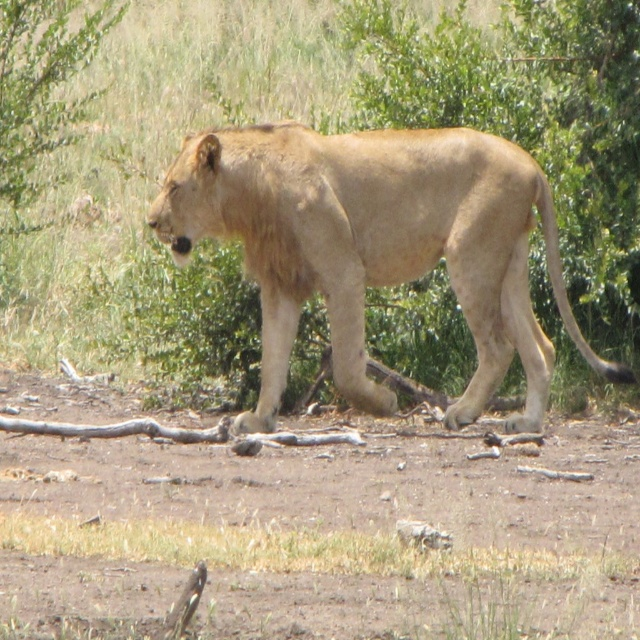Lion: (146, 118, 638, 435)
